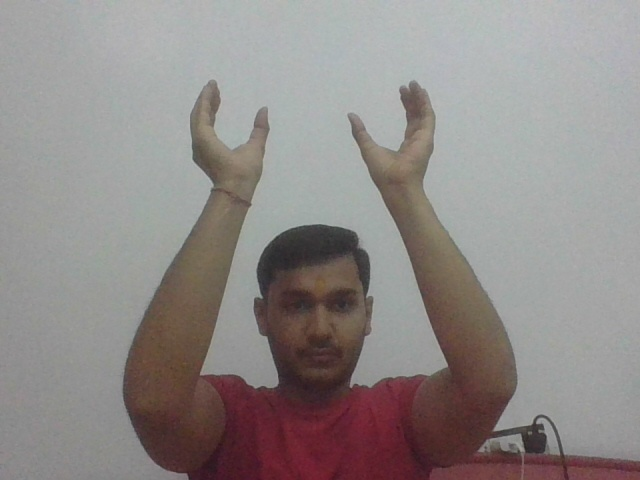U: (177, 72, 279, 191), (345, 75, 440, 189)
